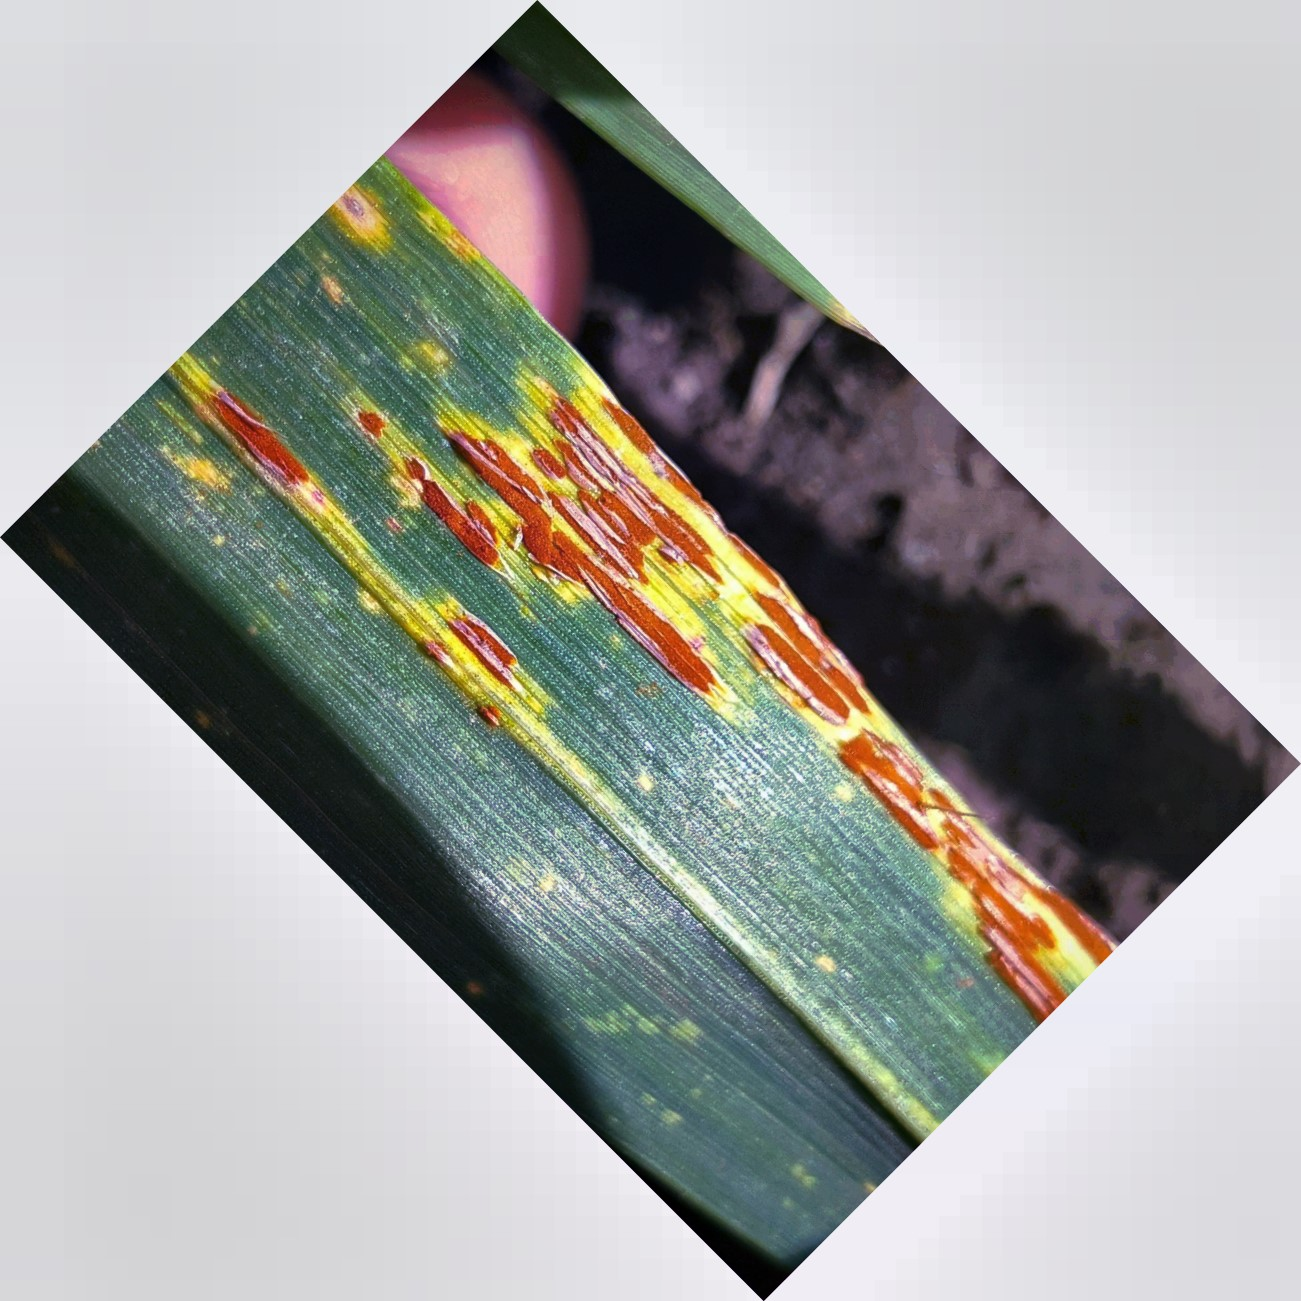Leaf Rust: (340, 278, 1112, 950)
